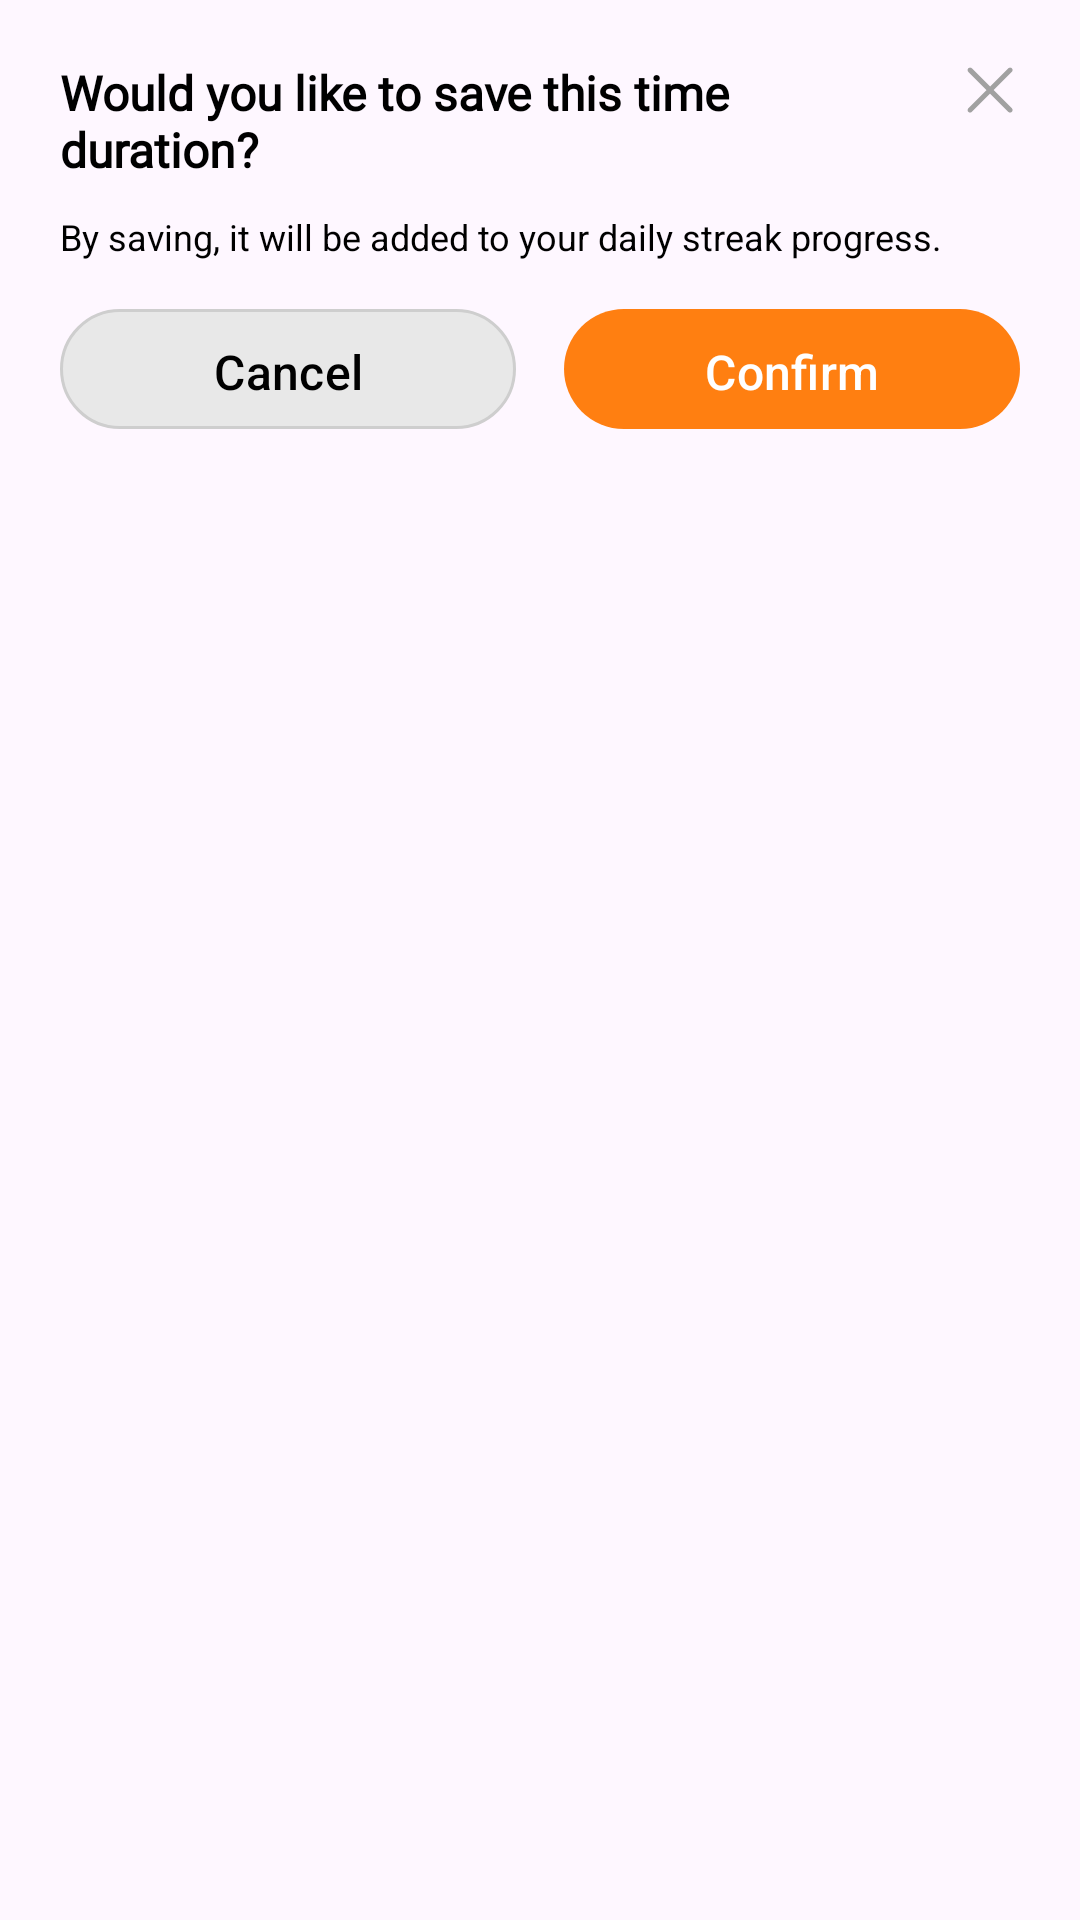

Icons on this 1080 × 1920 Android screen, each with its box as [x1=x1, y1=y1, x2=x2, y2=y2]:
close: [x1=967, y1=67, x2=1013, y2=113]
